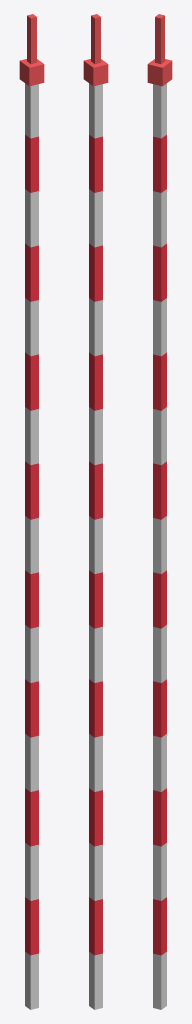
The model's file is masto_325m_LOD02.gltf.
3 renders of one model, left to right at view 1: azimuth 30°, elevation 25°; view 2: azimuth 210°, elevation 25°; view 3: azimuth 330°, elevation 25°, orthographic.
Visible parts, largest first — view 1: masto_325.002; view 2: masto_325.002; view 3: masto_325.002.
Boxes of the visible parts, x1=… form: masto_325.002: x1=19, y1=14, x2=44, y2=1009; masto_325.002: x1=83, y1=14, x2=108, y2=1009; masto_325.002: x1=147, y1=14, x2=172, y2=1009.
Bounding box in the file's own units: 5.04 × 319 × 5.76.
